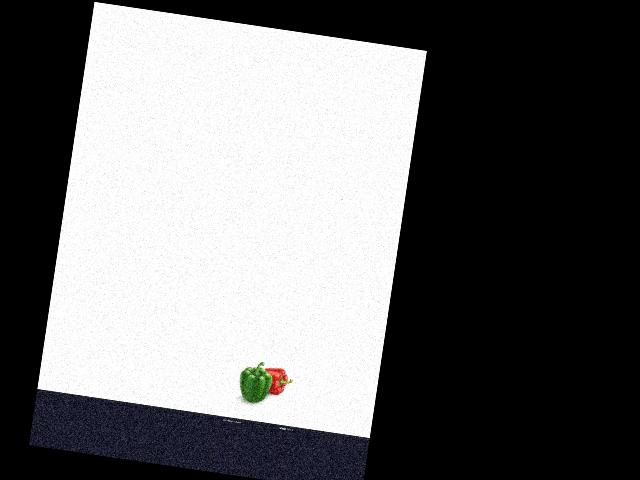bell_pepper: (260, 362, 294, 396)
